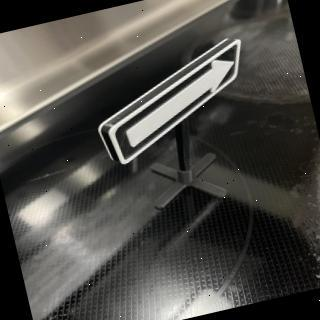sign_oneway_right: (84, 33, 264, 171)
